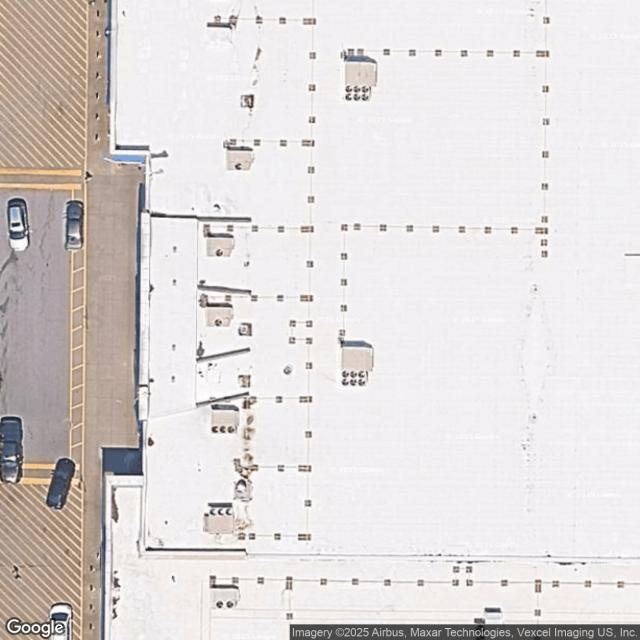car: (43, 456, 80, 513), (1, 193, 34, 255), (0, 418, 23, 485), (63, 199, 86, 251), (49, 604, 74, 639)
